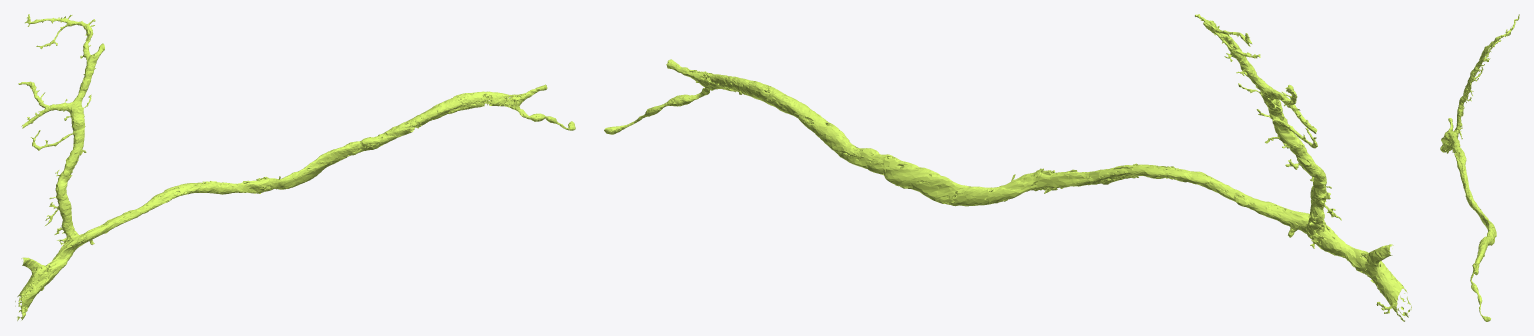
Rendered from VFB_jrchk7ju.glb.
The picture shows the model from 3 angles, left to right: view 1: azimuth 30°, elevation 25°; view 2: azimuth 150°, elevation 25°; view 3: azimuth 270°, elevation 25°; orthographic projection. The views are drawn at different scales.
Parts seen in each view (by area): view 1: VFB_jrchk7ju; view 2: VFB_jrchk7ju; view 3: VFB_jrchk7ju.
Part boxes in pixels (x1=…): VFB_jrchk7ju: x1=15, y1=14, x2=575, y2=320; VFB_jrchk7ju: x1=604, y1=14, x2=1411, y2=321; VFB_jrchk7ju: x1=1440, y1=14, x2=1519, y2=321.
Bounding box in the file's own units: 0.1509 × 0.061 × 0.0273.
